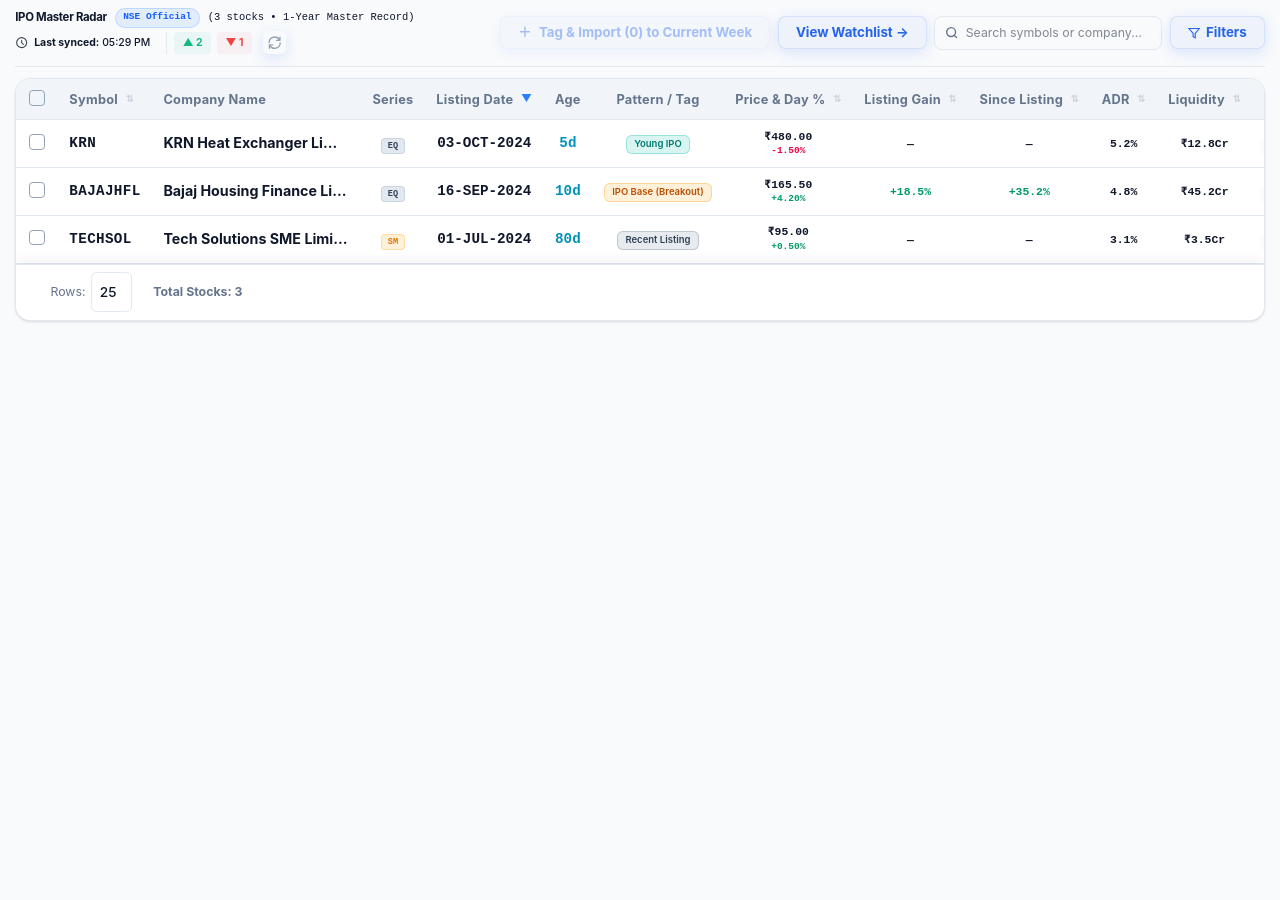
it: ScreenerView › filters by Tight VCP criteria via filter drawer
Expected: the text "BAJAJHFL" is shown, [58,168,152,216]
# Open filter drawer
Click the button "Filters" at (1217,33), box [1170,16,1265,49]
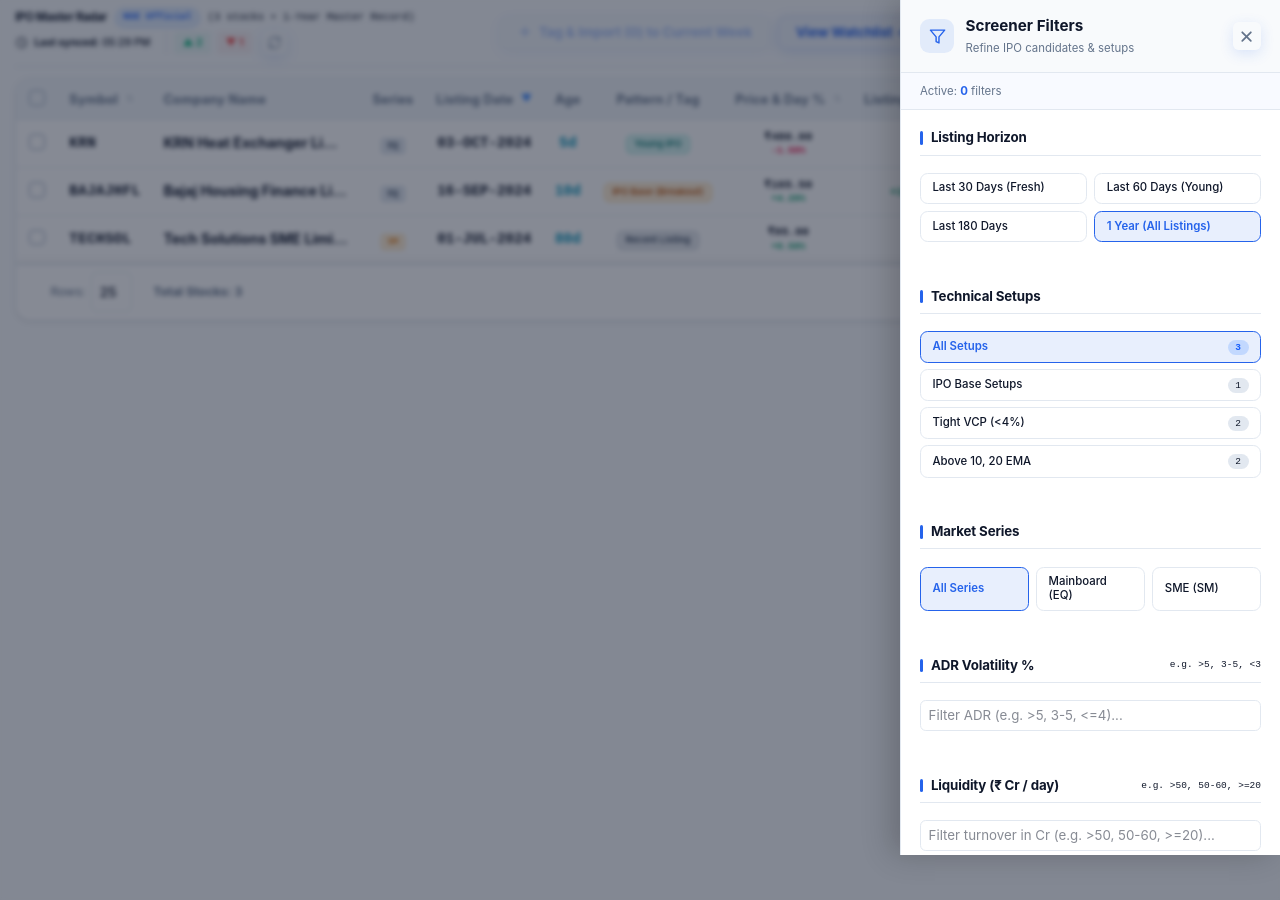
Click the button "Tight VCP (<4%) 2" at (979,422), box [920,407,1261,440]
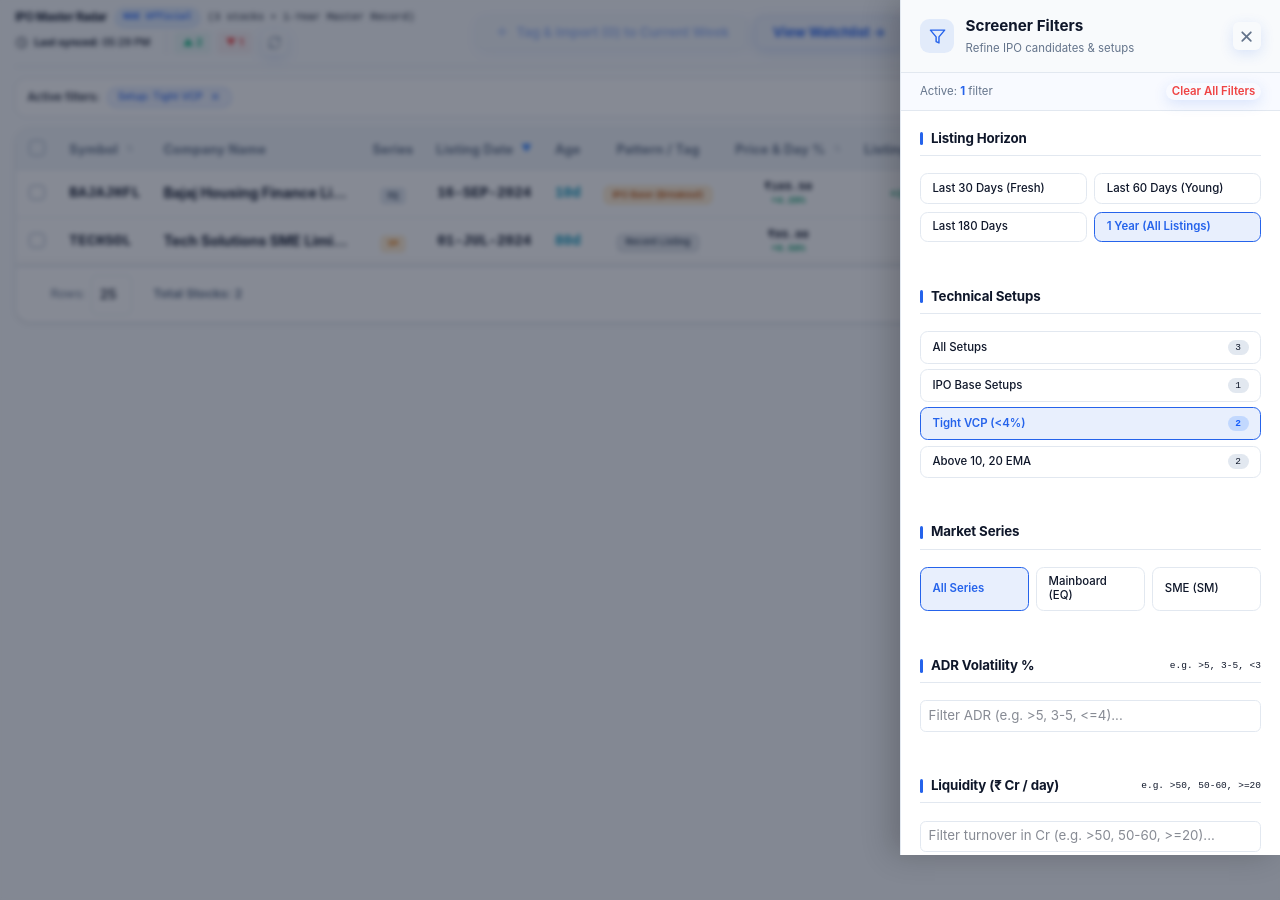
Expected: the text "BAJAJHFL" is shown, [58,170,152,218]
Result: the text "KRN" is gone
